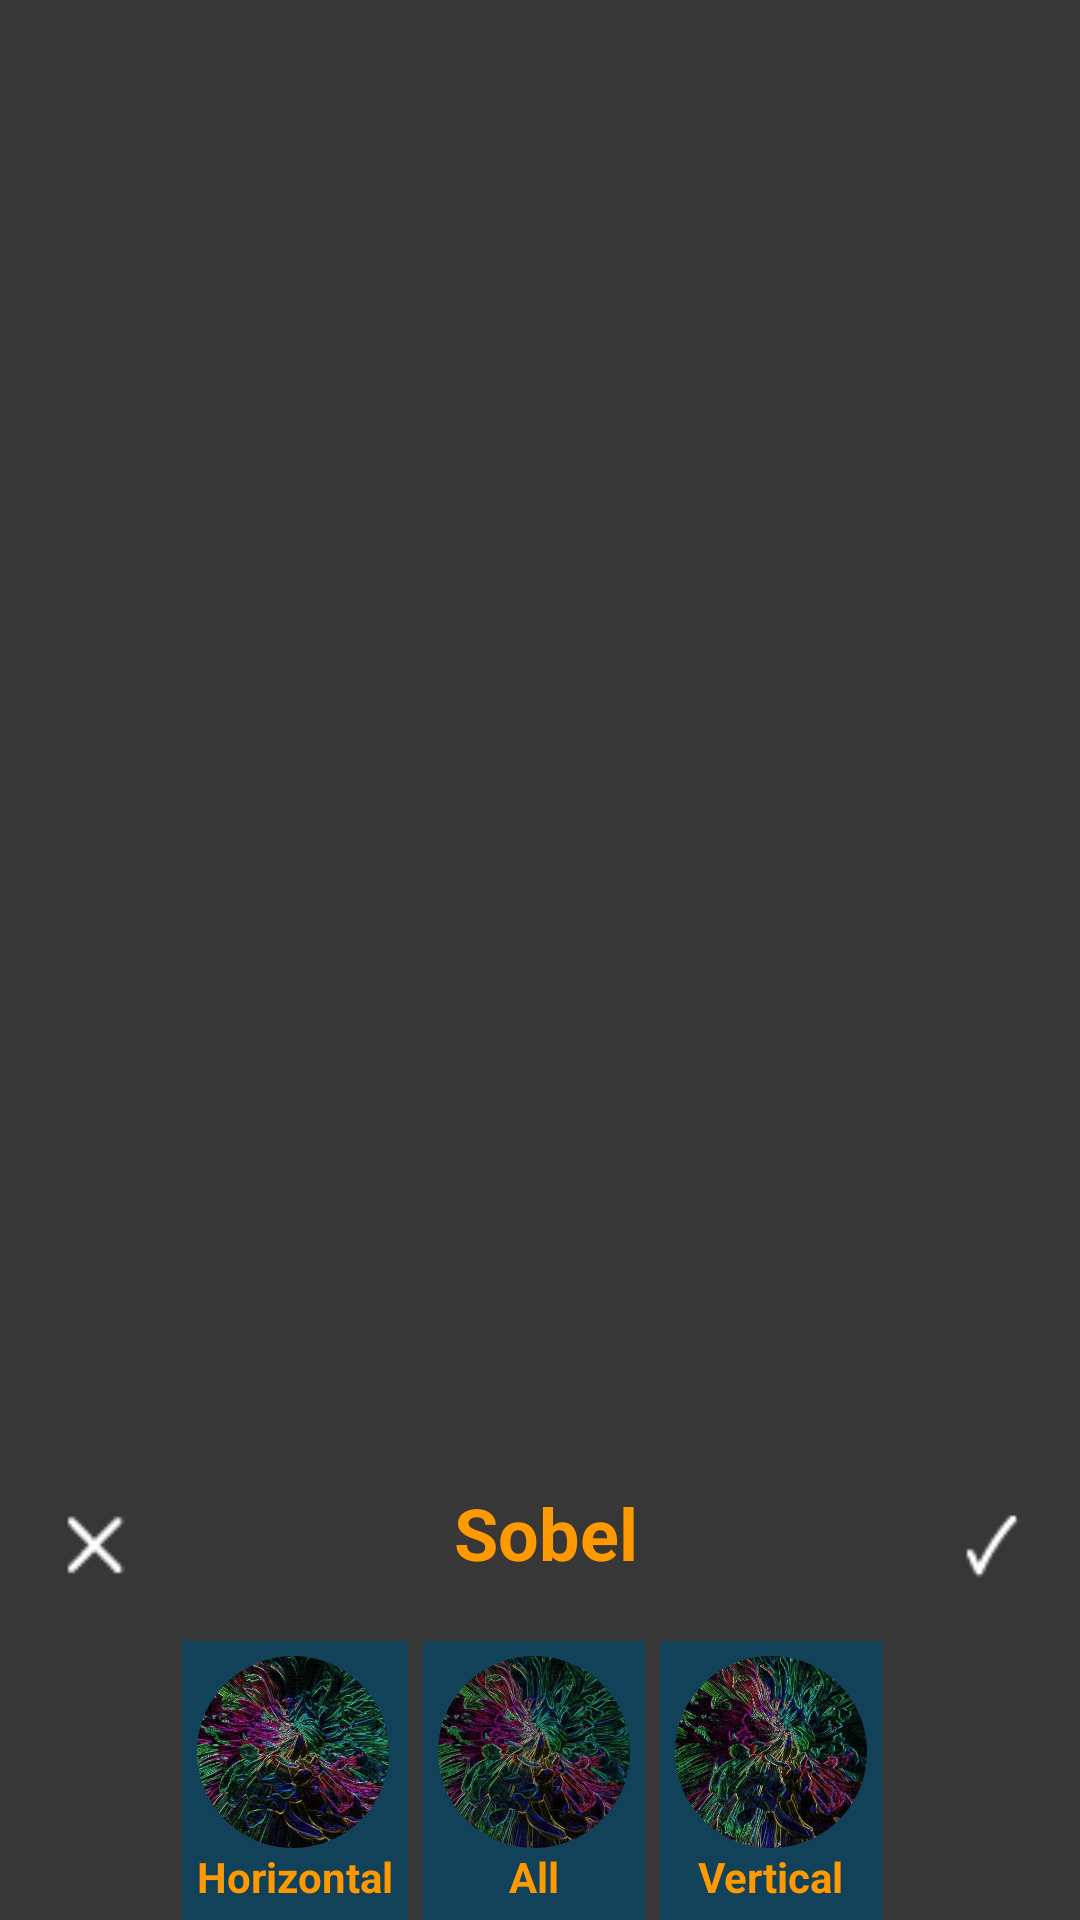

Icon bounding boxes for this 1080×1920 phone screenshot, format bbox=(x1, y1, x2, y2):
annuler: bbox=(67, 1516, 124, 1574)
valider: bbox=(966, 1515, 1017, 1577)
